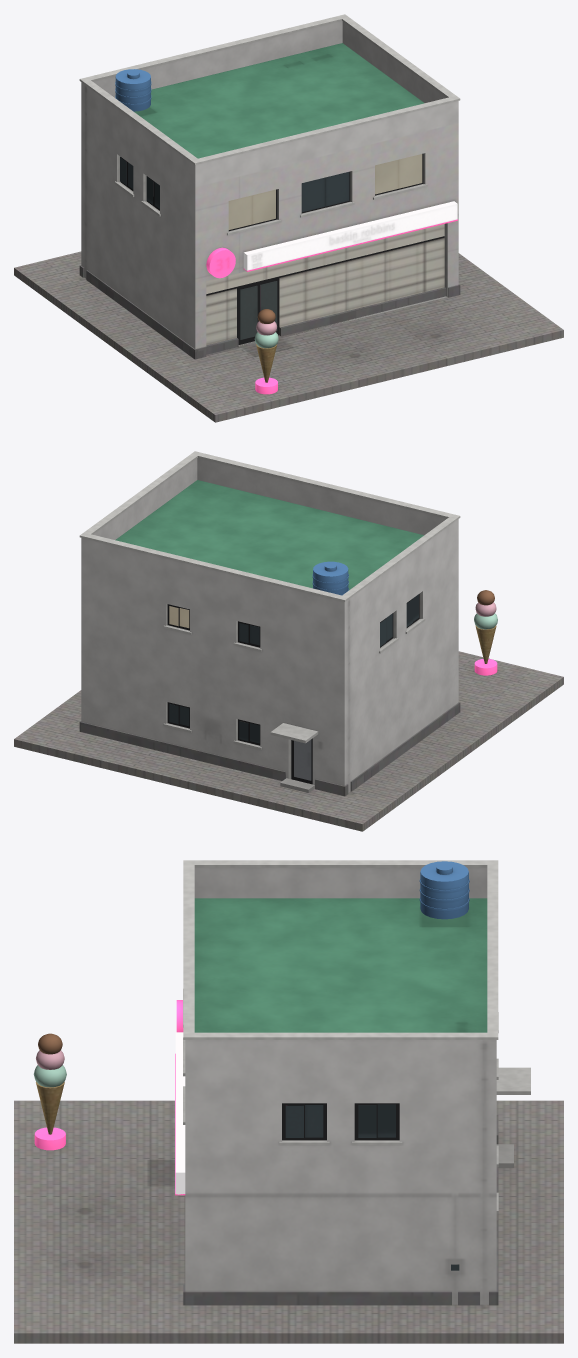
Rendered from IlsanBaskin_LOD2.fbx.
The picture shows the model from 3 angles, top to bottom: view 1: azimuth 30°, elevation 25°; view 2: azimuth 150°, elevation 25°; view 3: azimuth 270°, elevation 25°; orthographic projection. The views are drawn at different scales.
Parts seen in each view (by area): view 1: IlsanBaskin_LOD2; view 2: IlsanBaskin_LOD2; view 3: IlsanBaskin_LOD2.
Boxes of the visible parts, bbox=[...] form: IlsanBaskin_LOD2: bbox=[14, 14, 563, 422]; IlsanBaskin_LOD2: bbox=[14, 451, 563, 831]; IlsanBaskin_LOD2: bbox=[14, 860, 563, 1343].
Bounding box in the file's own units: 15.9 × 9.4 × 15.9.
1 material, 1 textured.
